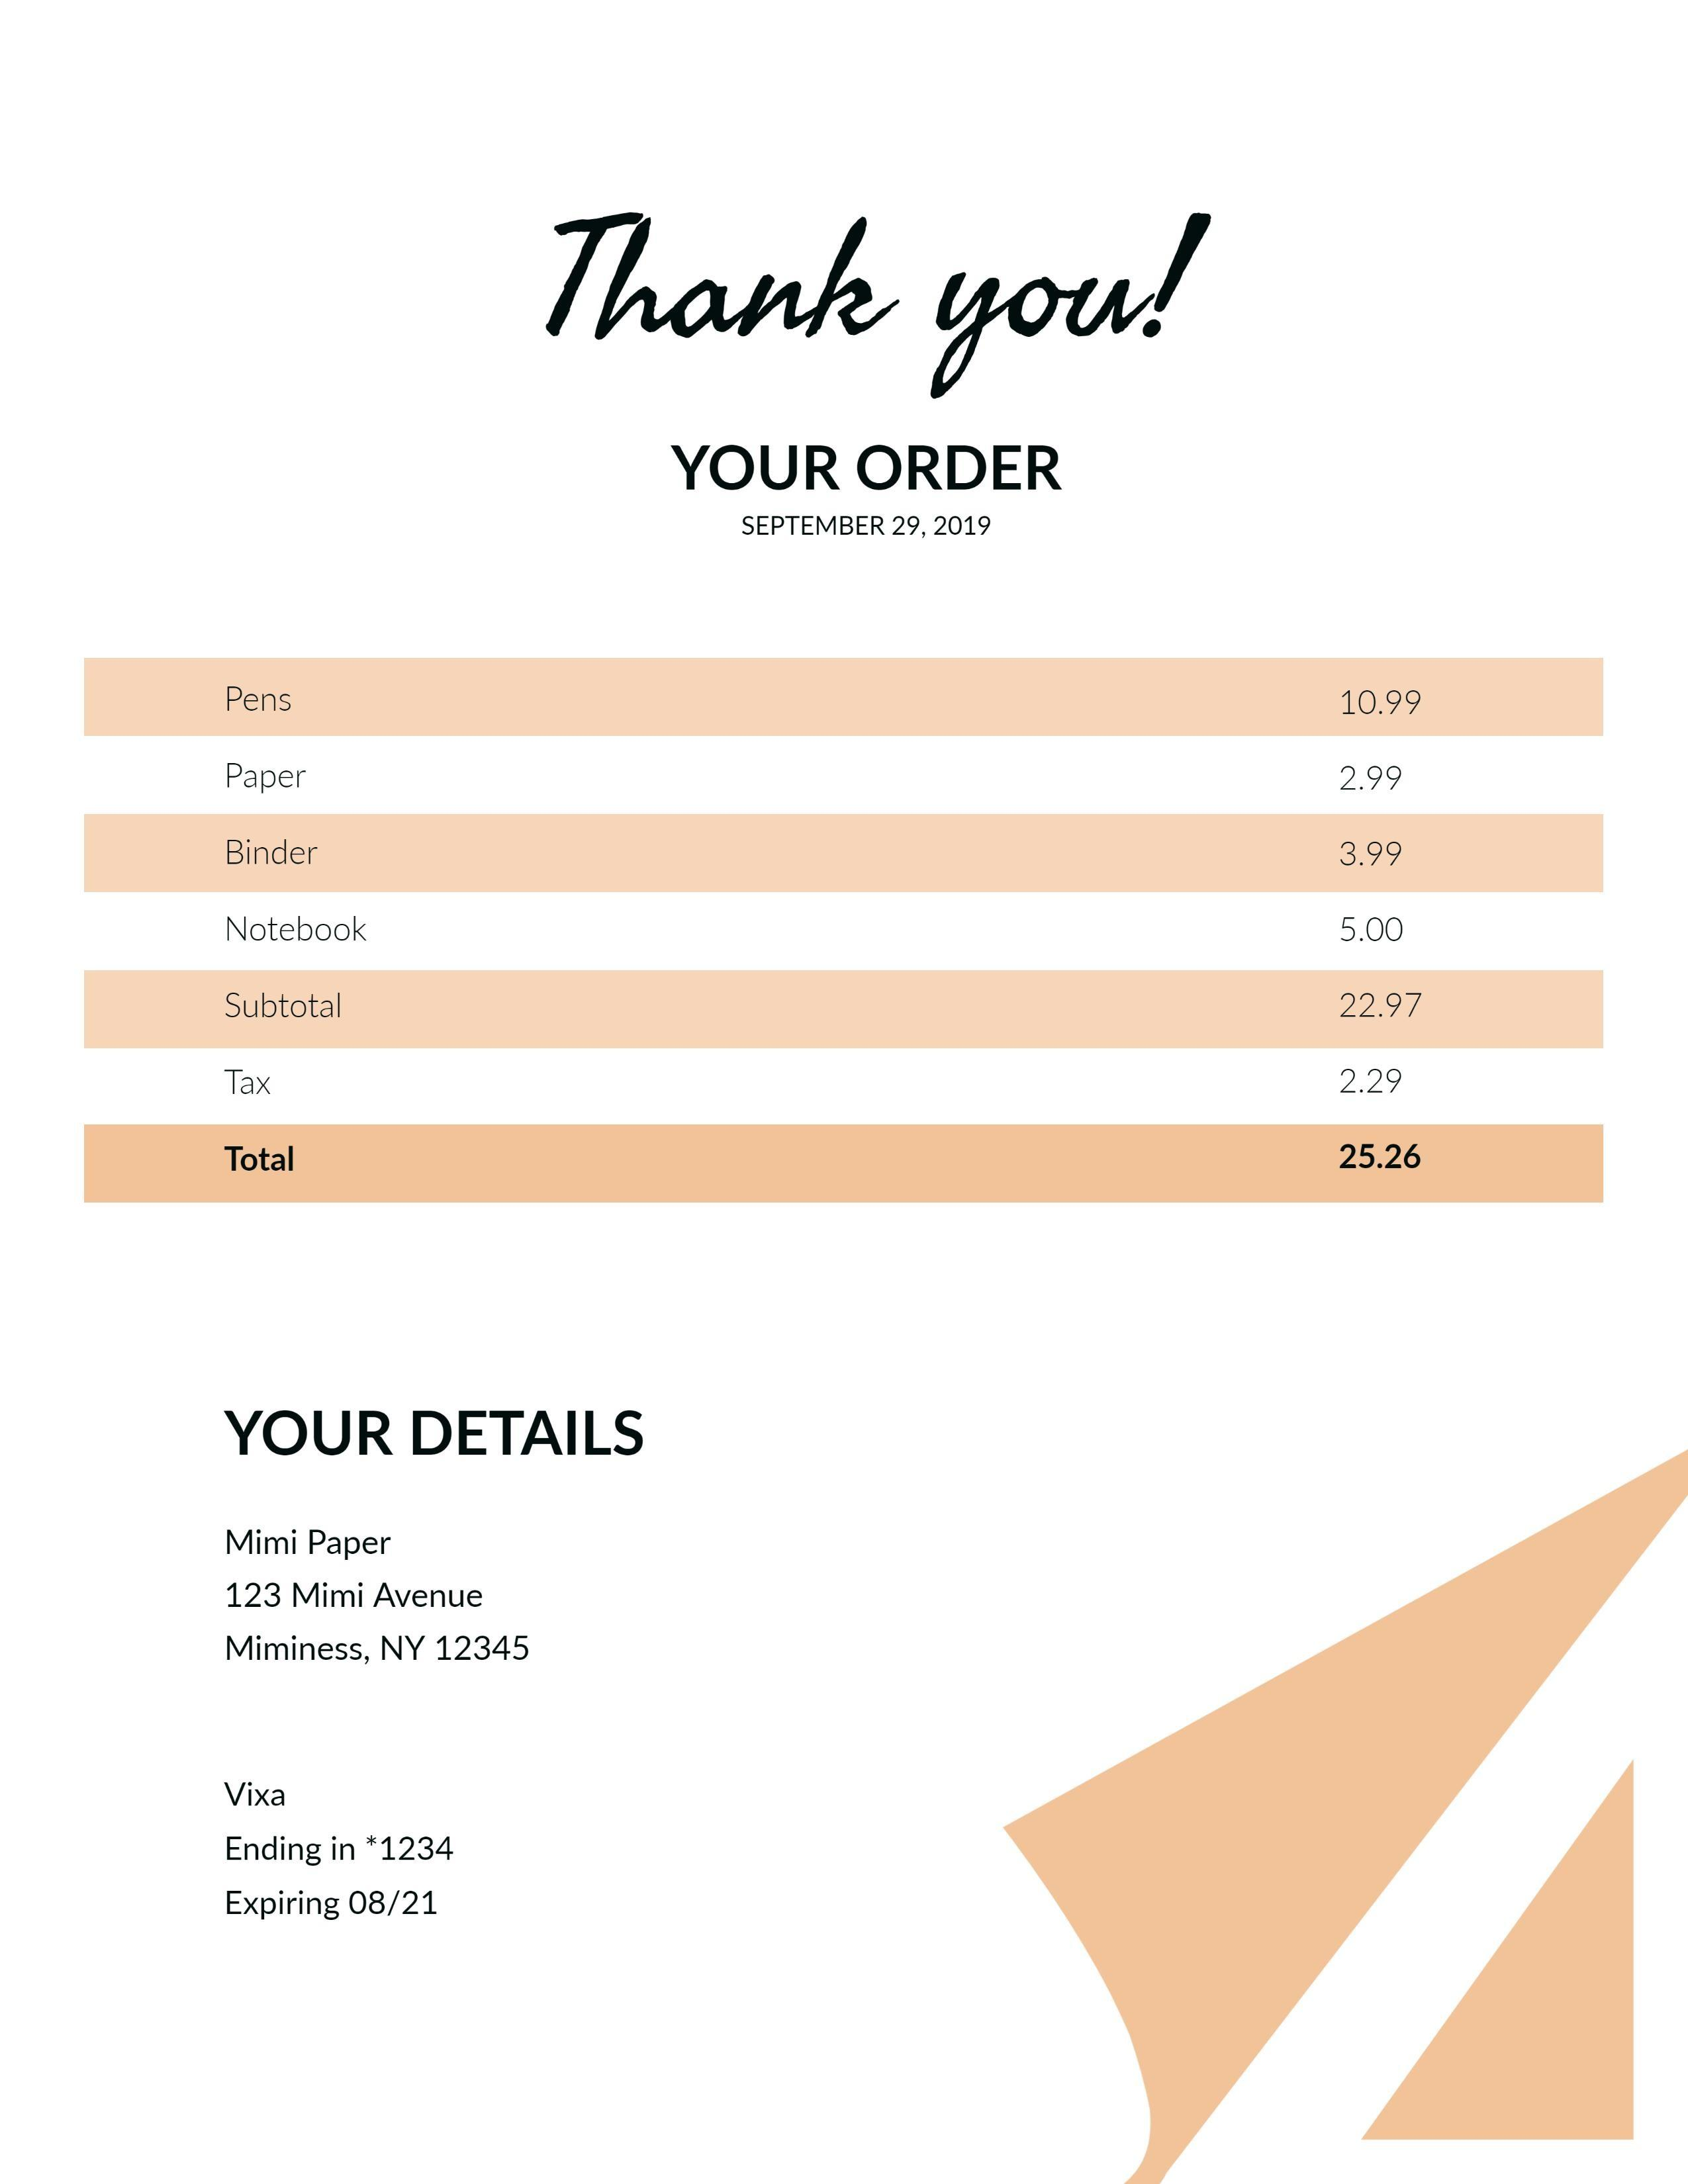ROI: (206, 665, 1465, 966), (209, 973, 1477, 1200), (661, 417, 1105, 565), (209, 1501, 541, 1686), (209, 1748, 477, 1945)
